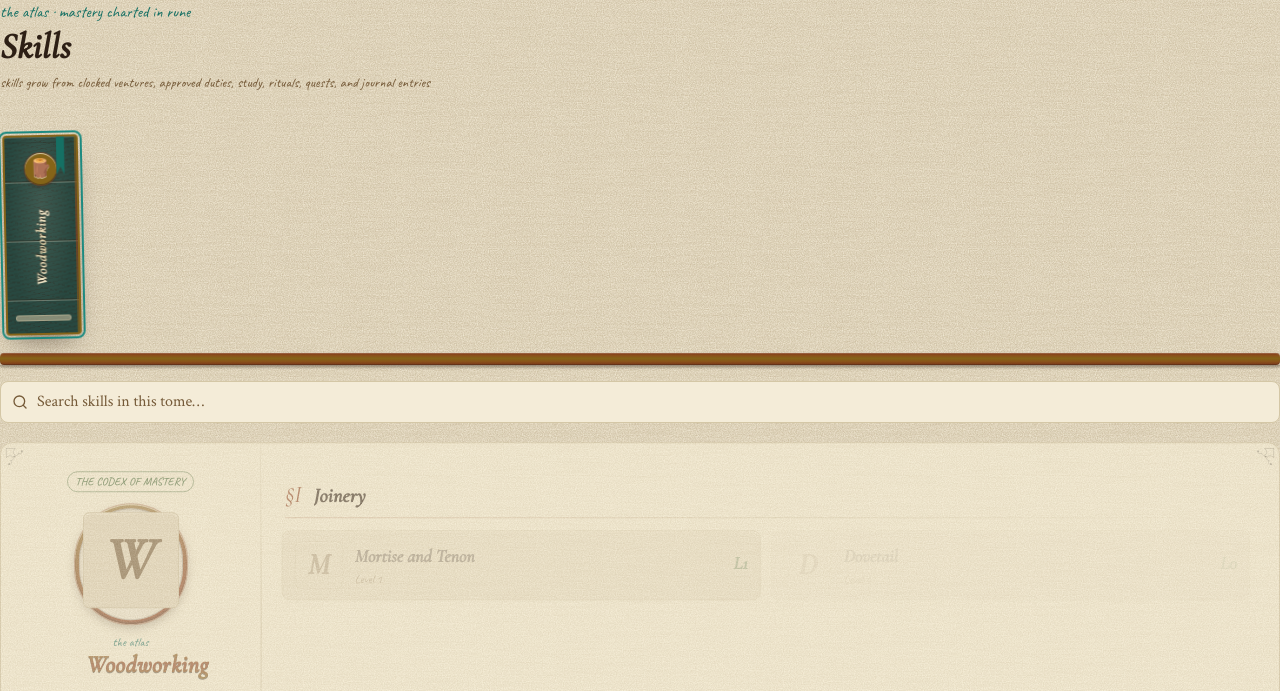
Scenario: Achievements (Skills page) › opens the first tome on mount and filters skills inside the loaded folio
Check: the text "Mortise and Tenon" is shown, box [355,543,475,569]
Type "dovetail" into the search field named "filter skills". click: (640, 402)
box: [0,381,1279,423]
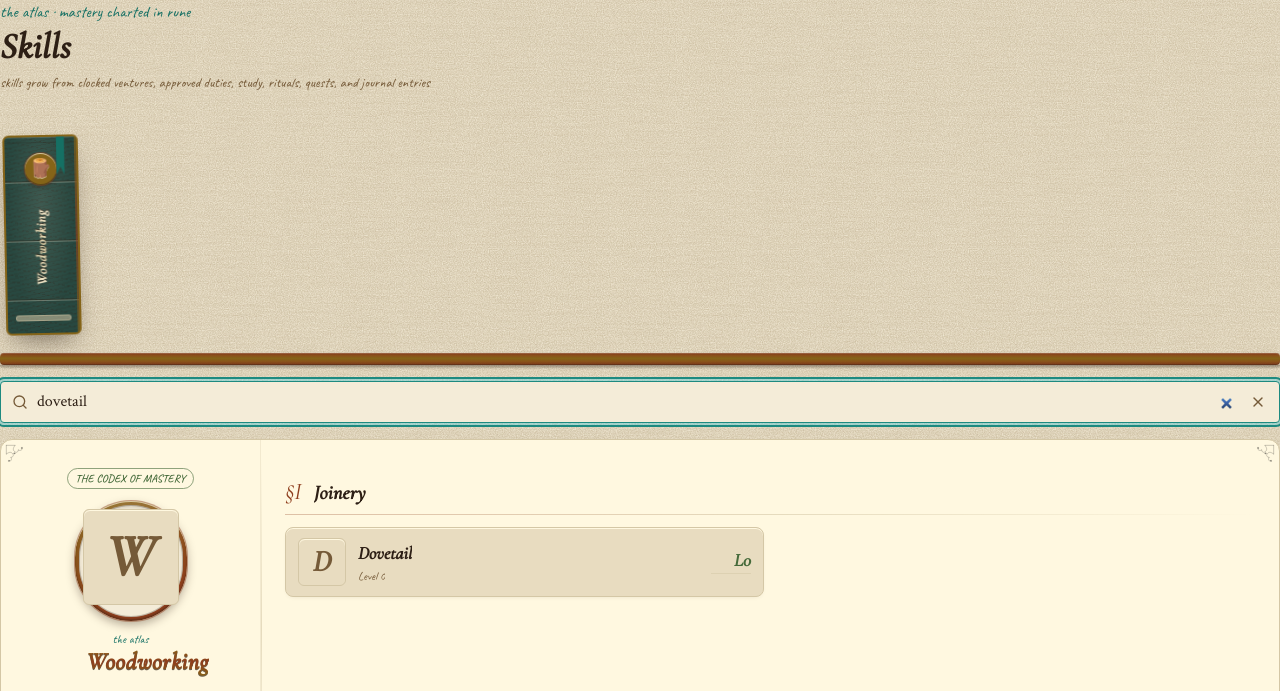
Check: the text "Dovetail" is shown, box [358,540,412,566]
Check: the button "Mortise and Tenon" is gone
